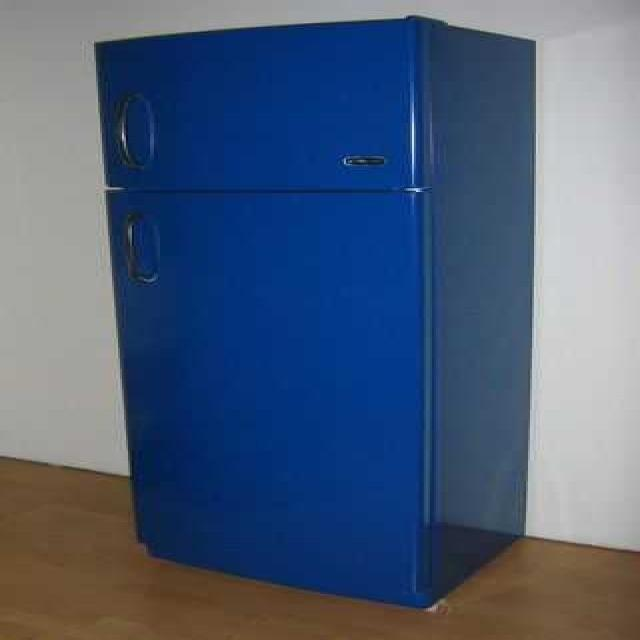refrigerator: (94, 13, 433, 609)
